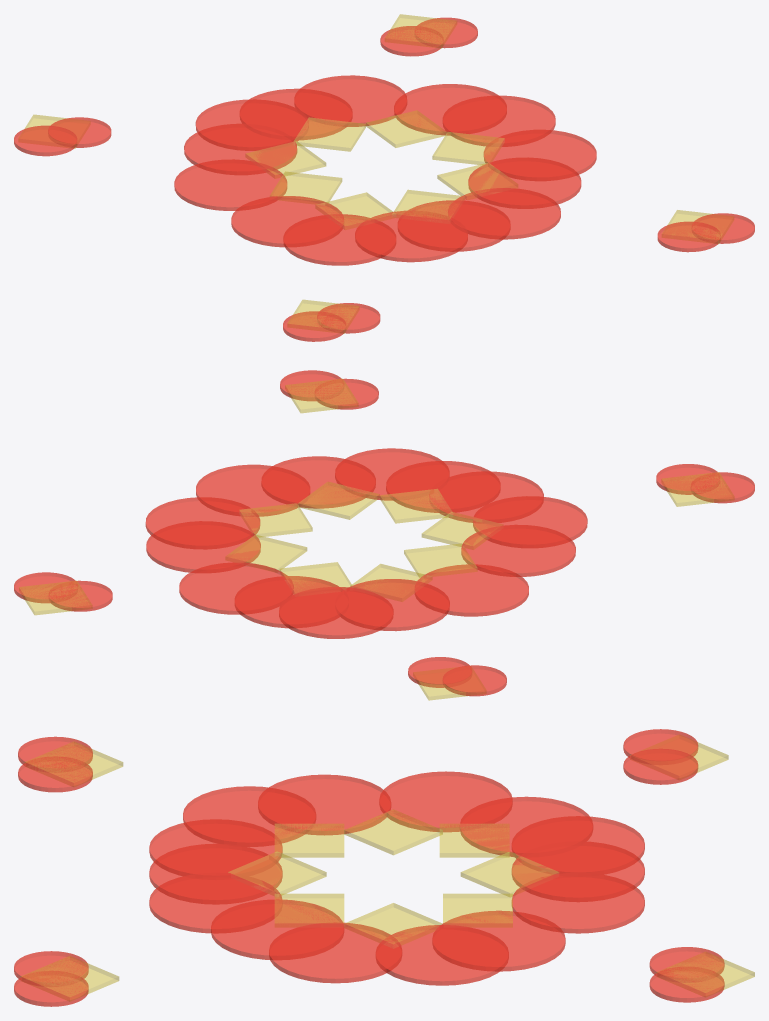
The model's file is profusión.fbx.
3 views of the same model, one above another, from view 1: azimuth 30°, elevation 25°; view 2: azimuth 150°, elevation 25°; view 3: azimuth 270°, elevation 25° (orthographic). The views are drawn at different scales.
Parts seen in each view (by area): view 1: Cube.020; view 2: Cube.020; view 3: Cube.020.
Part boxes in pixels (x1,y1,x2,y2): Cube.020: (14,14,754,341); Cube.020: (14,370,754,700); Cube.020: (14,729,754,1006).
Size of the model in its own units: 518 by 4.58 by 595.
